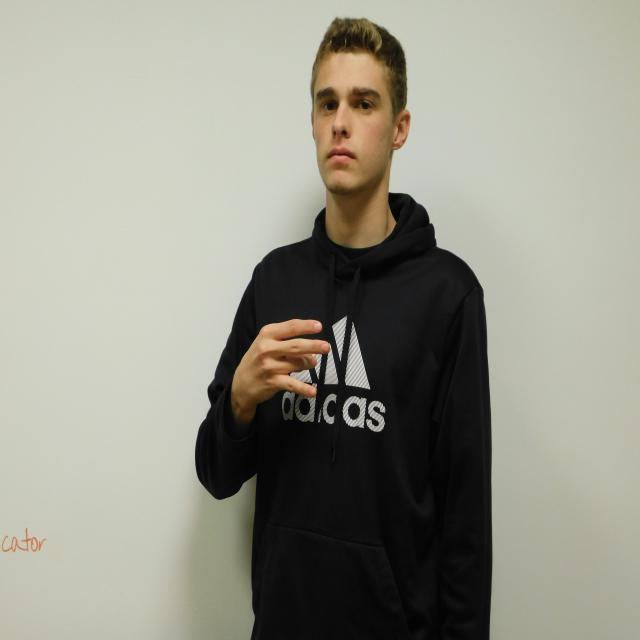like: (241, 318, 330, 404)
